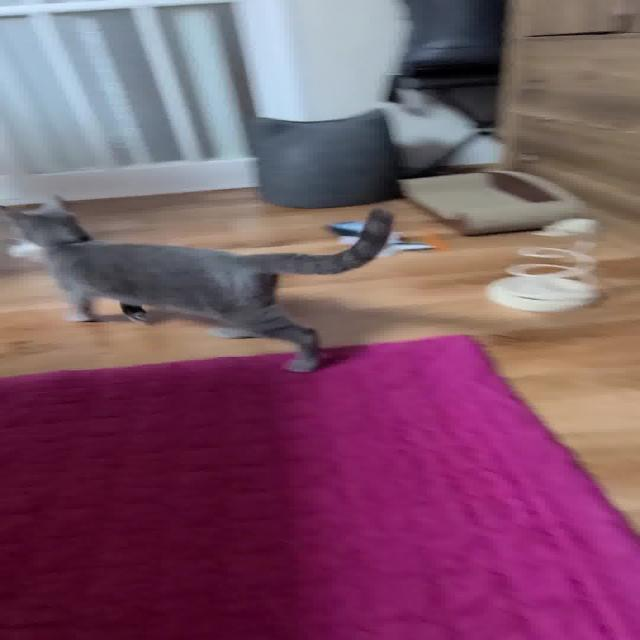cat: (0, 181, 400, 394)
